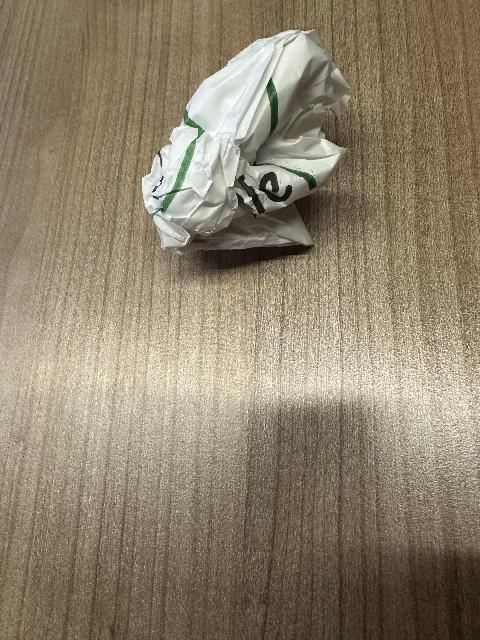Kagit: (132, 22, 367, 270)
